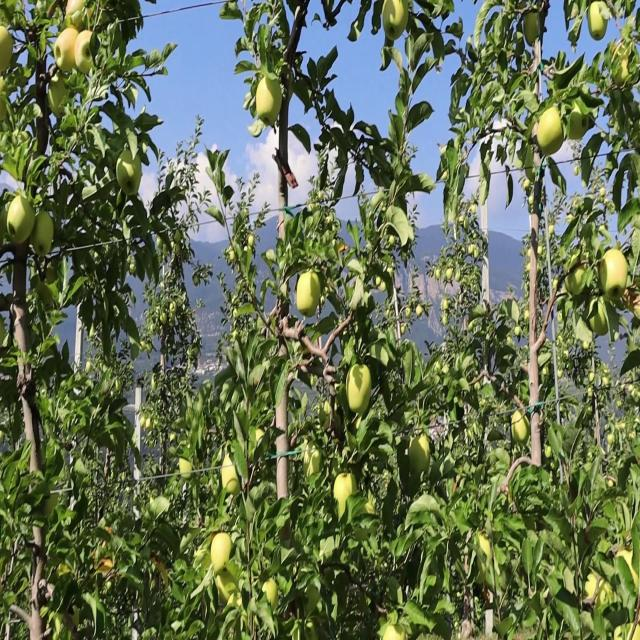apple: (600, 248, 628, 299), (8, 191, 36, 240), (256, 78, 283, 128), (116, 149, 144, 197), (540, 106, 565, 158), (296, 270, 321, 320), (348, 369, 373, 412), (56, 28, 78, 76), (384, 0, 408, 43), (32, 213, 56, 256), (408, 433, 432, 475), (616, 554, 640, 592), (76, 35, 95, 78), (212, 533, 232, 572), (588, 7, 609, 43), (568, 106, 588, 142), (216, 570, 237, 603), (568, 263, 587, 299), (588, 305, 608, 338), (336, 476, 355, 510), (524, 14, 540, 48), (224, 462, 240, 496), (612, 56, 629, 87), (68, 1, 85, 30), (4, 28, 15, 71), (248, 113, 265, 139), (584, 575, 599, 603), (264, 583, 280, 608), (512, 419, 528, 444), (12, 236, 31, 256), (320, 405, 333, 430), (480, 533, 492, 560), (16, 241, 31, 261), (600, 583, 614, 604), (312, 447, 322, 476), (364, 497, 376, 517), (48, 263, 59, 284), (180, 462, 192, 476), (308, 618, 316, 638), (48, 7, 57, 21), (608, 433, 616, 448), (416, 305, 424, 320), (248, 234, 256, 249), (544, 447, 552, 462), (192, 348, 200, 363), (584, 341, 594, 352), (604, 376, 611, 389), (564, 348, 570, 363), (88, 7, 93, 25), (436, 270, 442, 283), (456, 270, 461, 283), (164, 312, 168, 325), (476, 248, 480, 260), (448, 270, 452, 281), (468, 248, 473, 256), (196, 277, 200, 284)
